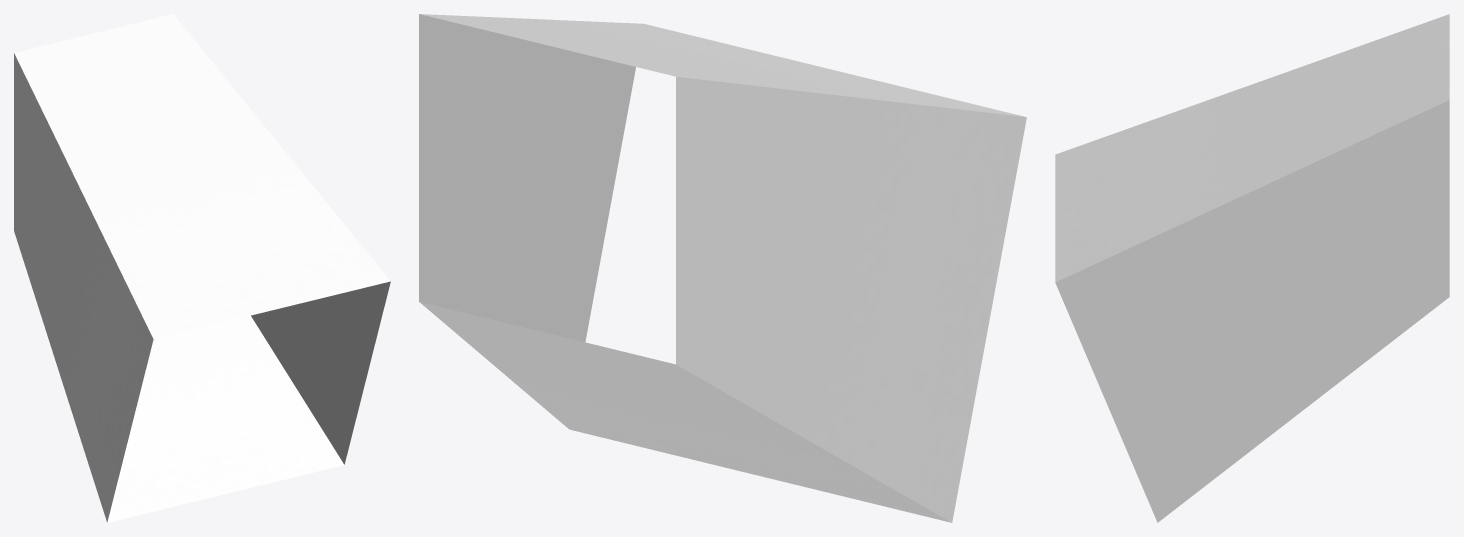
Rendered from window_ray.glb.
3 renders of one model, left to right at view 1: azimuth 30°, elevation 25°; view 2: azimuth 150°, elevation 25°; view 3: azimuth 270°, elevation 25°, orthographic. The views are drawn at different scales.
Visible parts, largest first — view 1: window_ray; view 2: window_ray; view 3: window_ray.
Boxes of the visible parts, x1,y1,x2,y2 form: window_ray: (14, 14, 390, 522); window_ray: (419, 14, 1026, 522); window_ray: (1055, 14, 1449, 522).
Bounding box in the file's own units: 1.57 × 2.3 × 2.05.
1 material, 1 textured.
